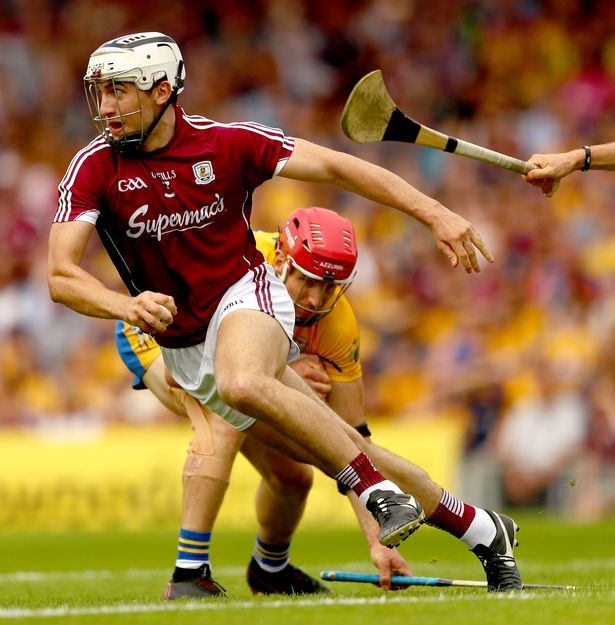hurley: (334, 63, 569, 200)
